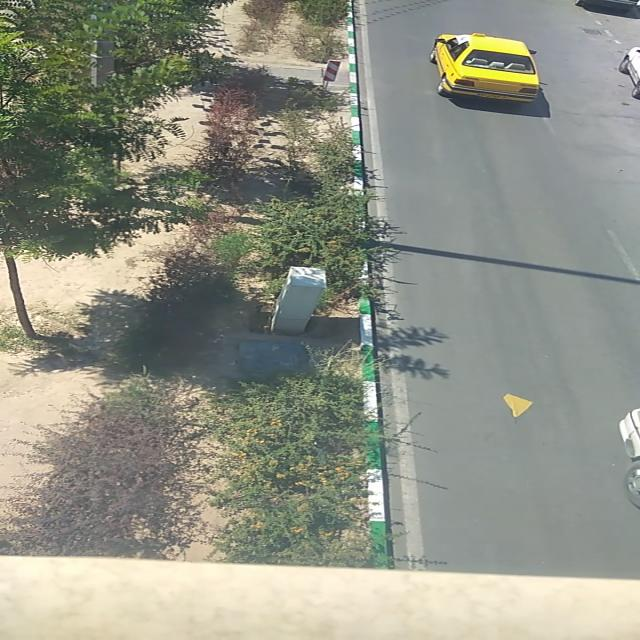car: (433, 33, 541, 105)
